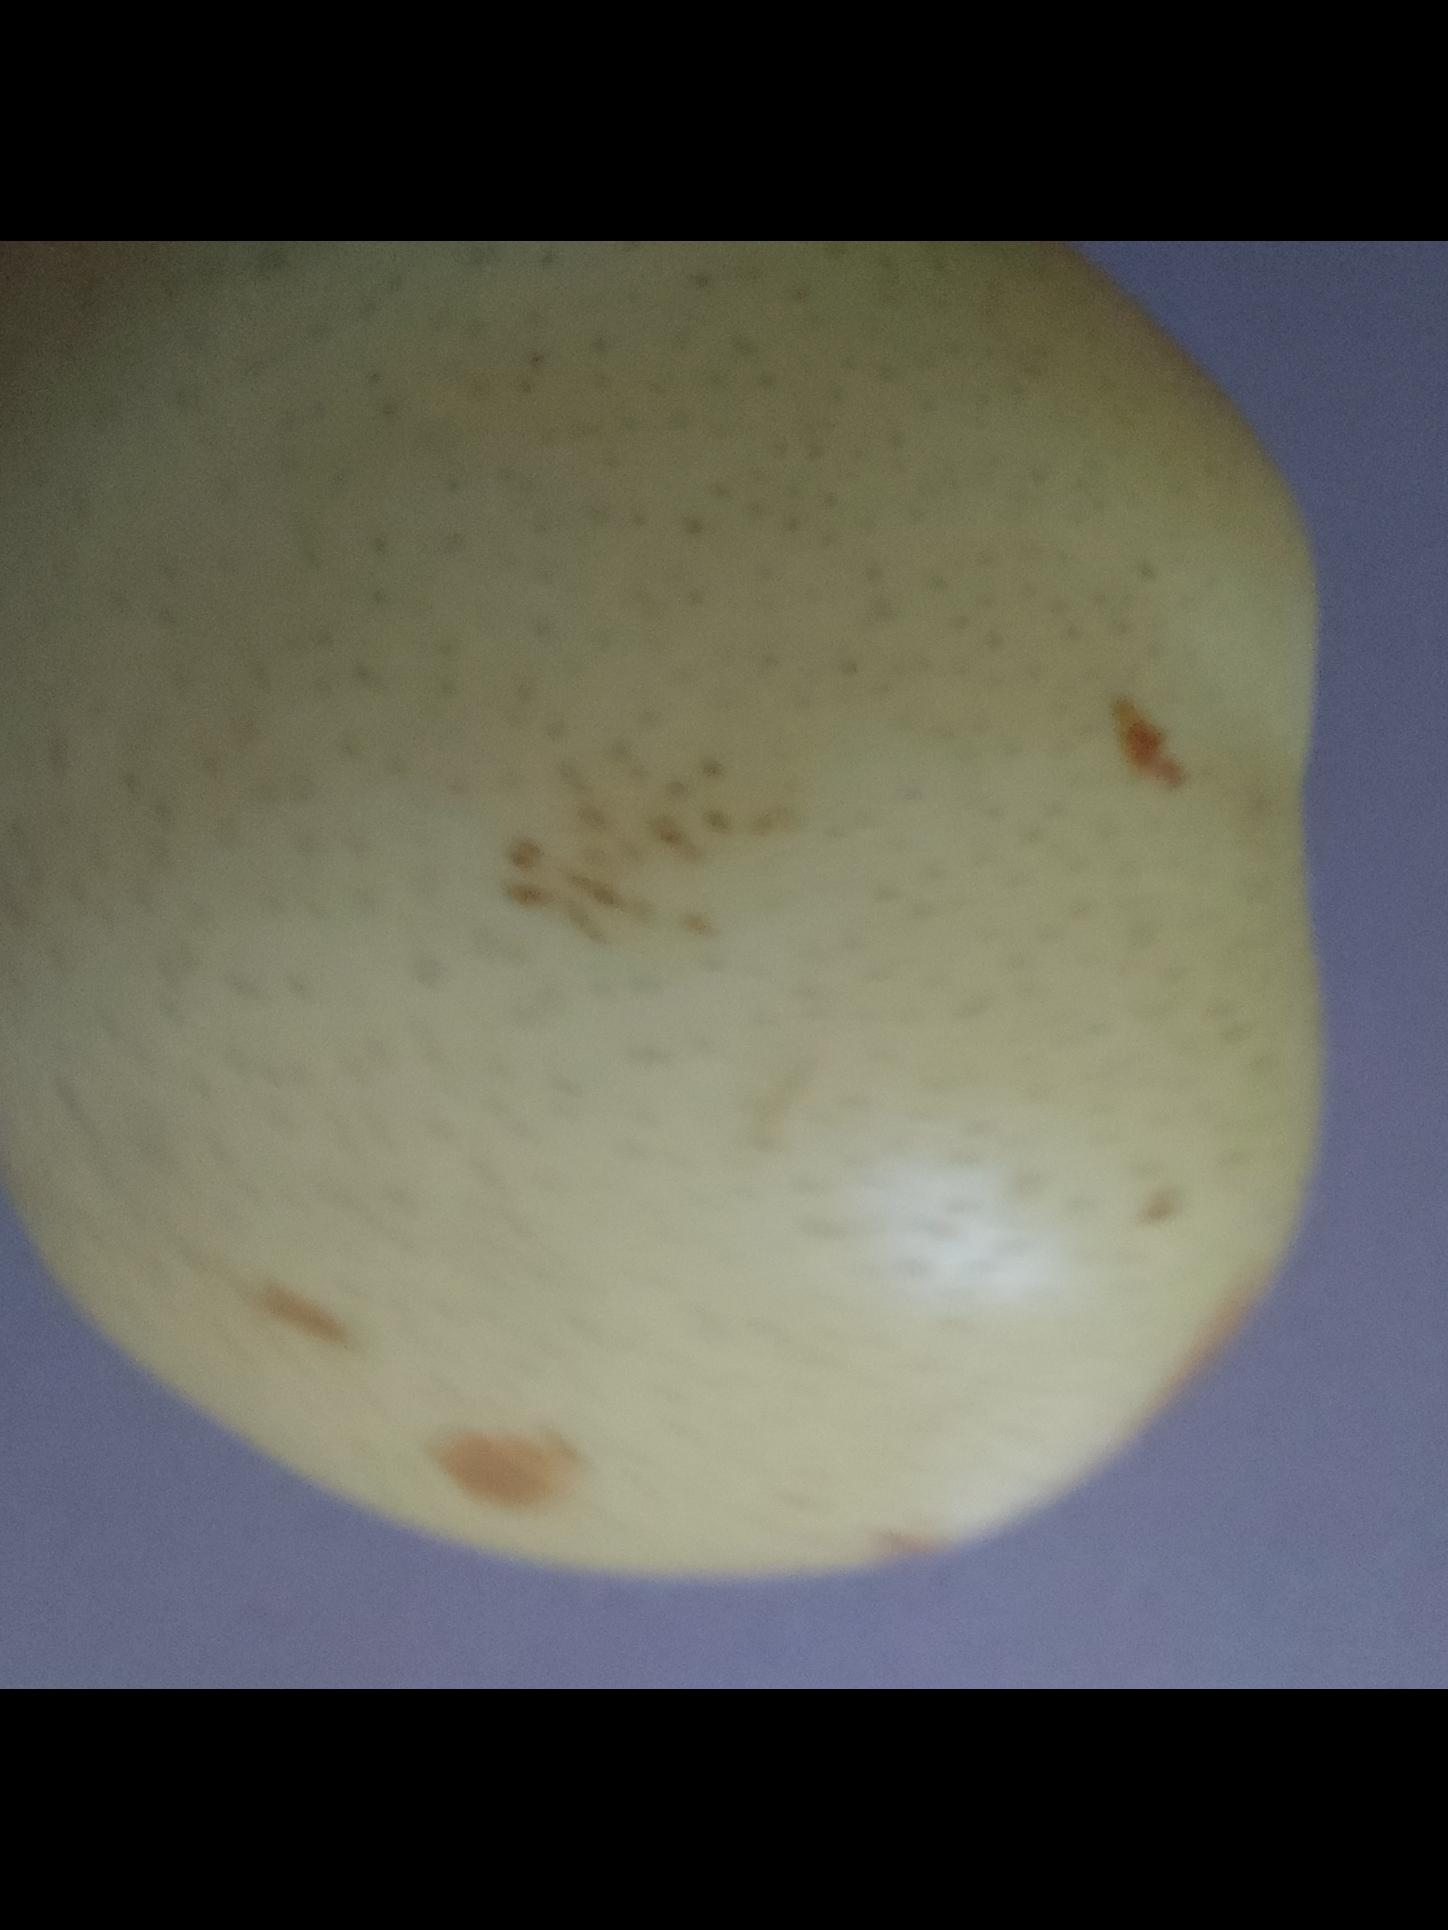Good Pear: (0, 240, 1326, 1592)
